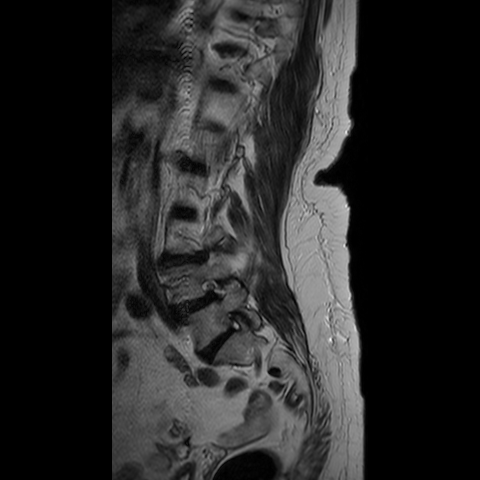RFS1: (193, 270, 232, 314)
